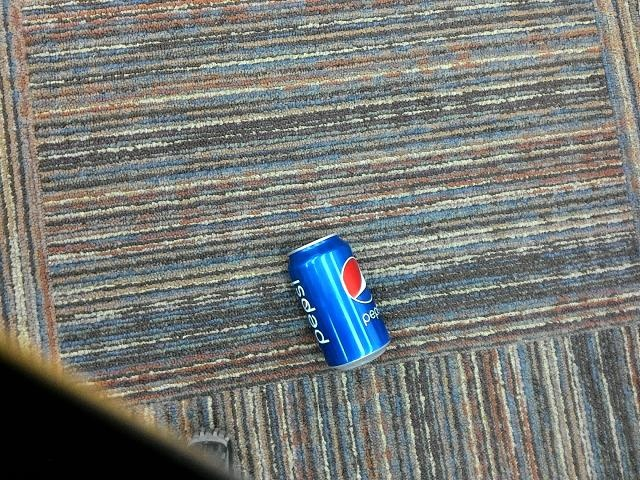can: (271, 226, 400, 373)
